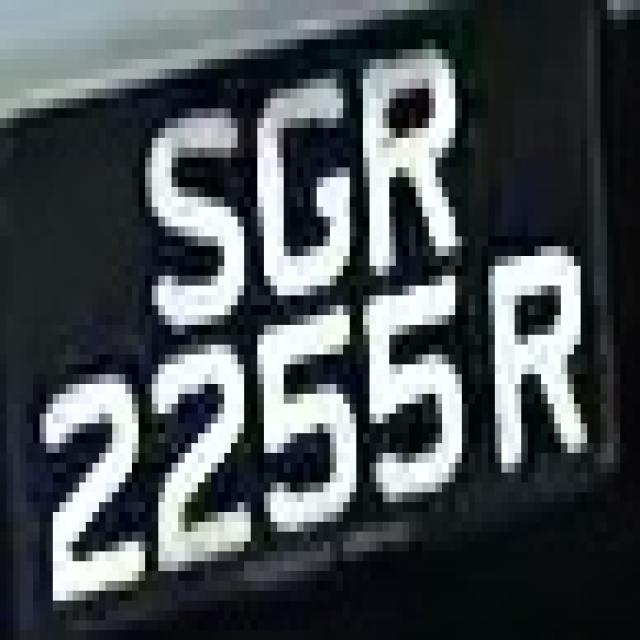2: (138, 325, 270, 581), (27, 364, 138, 620)
5: (356, 266, 468, 532), (258, 286, 370, 532)
G: (231, 79, 356, 295)
R: (482, 197, 587, 473), (350, 39, 455, 296)
S: (125, 69, 251, 345)
